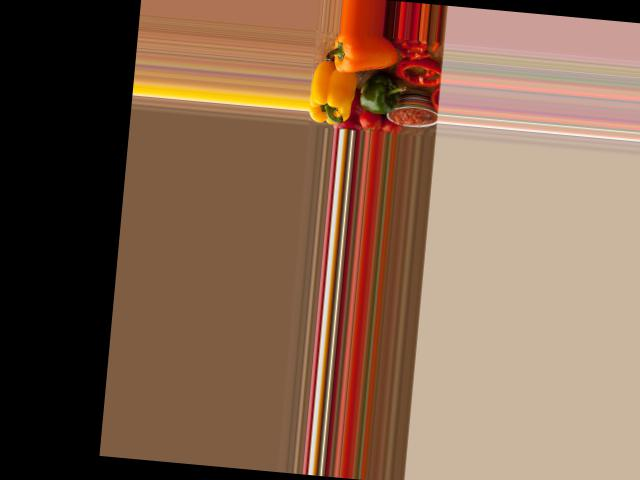bell_pepper: (308, 70, 358, 125)
